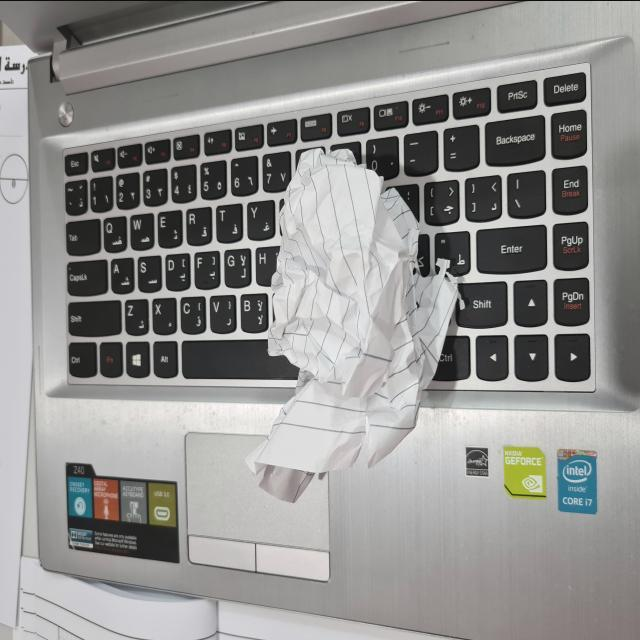Paper: (247, 143, 446, 517)
